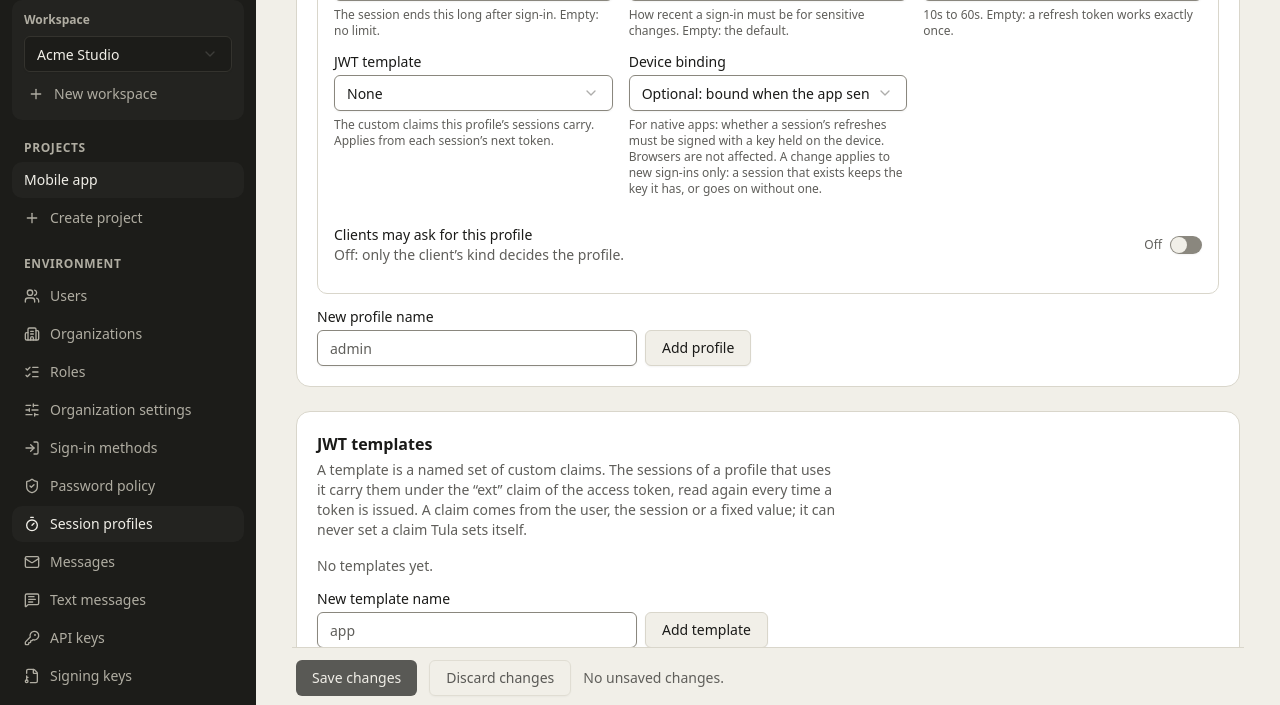
Scenario: device binding on the session profiles screen › a new profile asks what the mobile profile asks (optional), not the web profile’s nothing
(page scrolled)
Type "kiosk" into the field labelled "New profile name" at coordinates (477, 348), box x1=317 y1=330 x2=637 y2=366
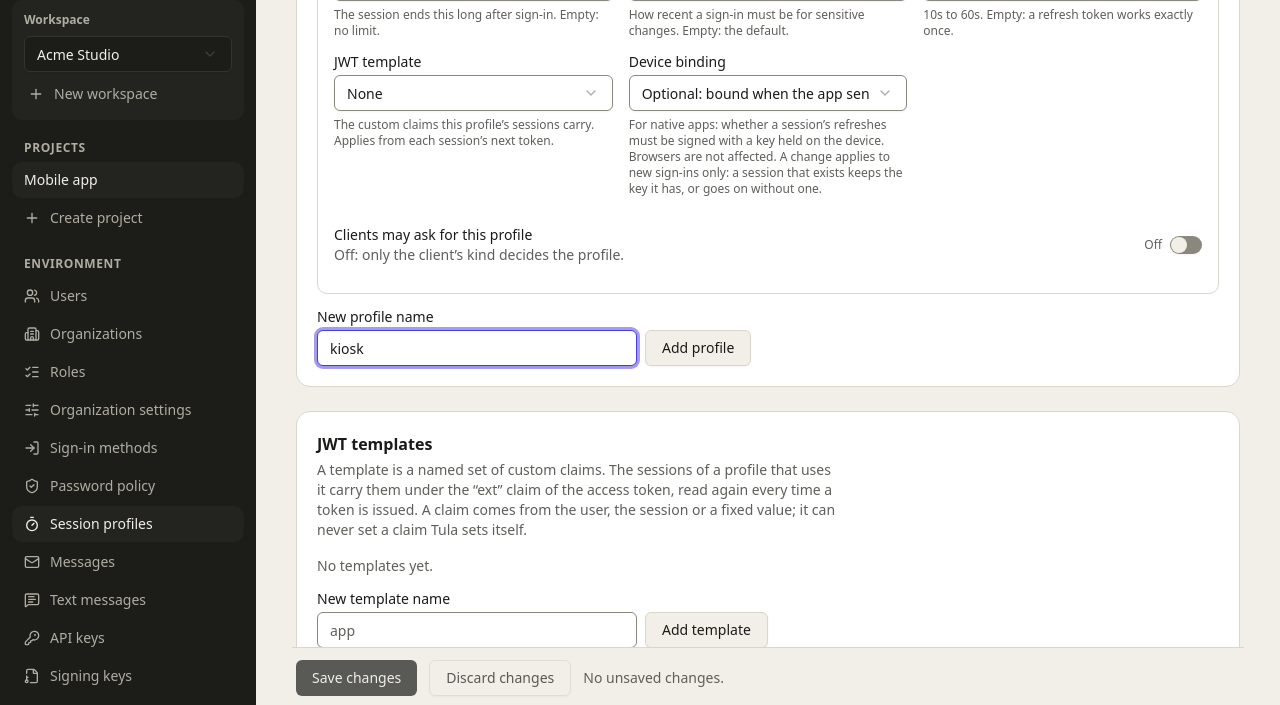
Click the button "Add profile" at coordinates (698, 348), box x1=645 y1=330 x2=751 y2=366
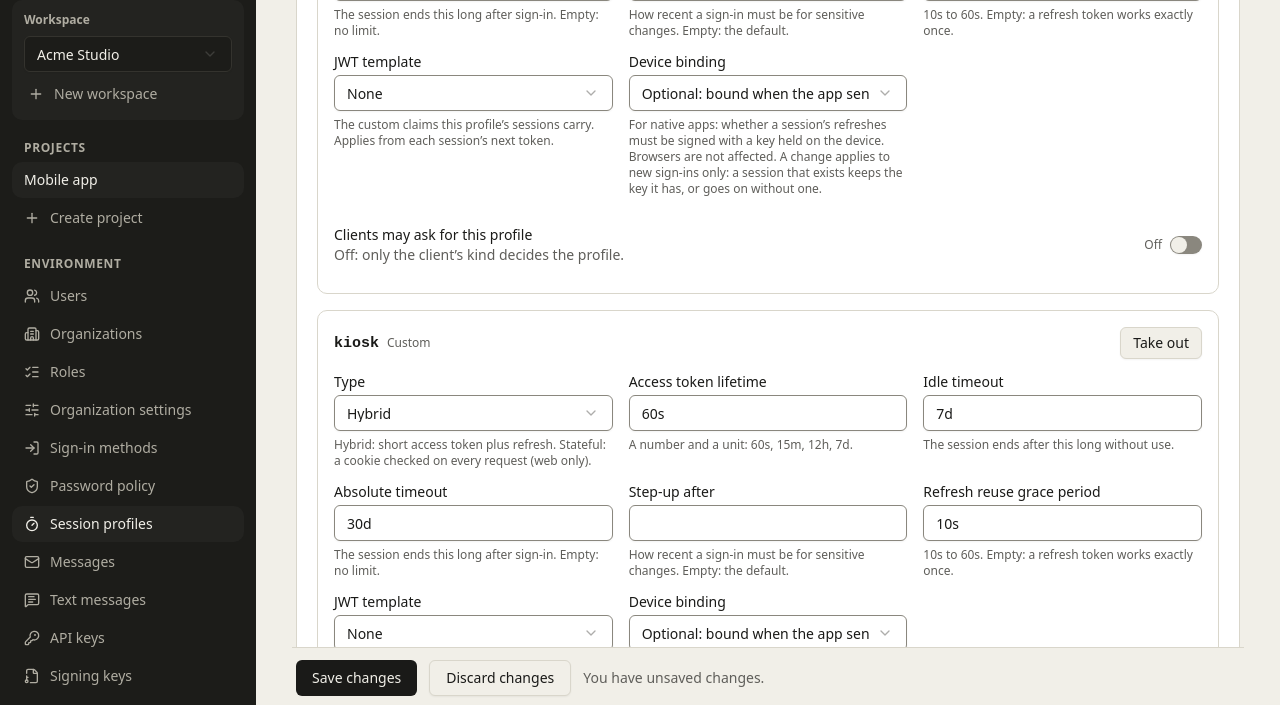
Now the dropdown labelled "Device binding" below "kiosk" shows "Optional: bound when the app sends a key", box x1=629 y1=615 x2=907 y2=651
Click the button "Save changes" at coordinates (357, 678), box x1=296 y1=660 x2=417 y2=696
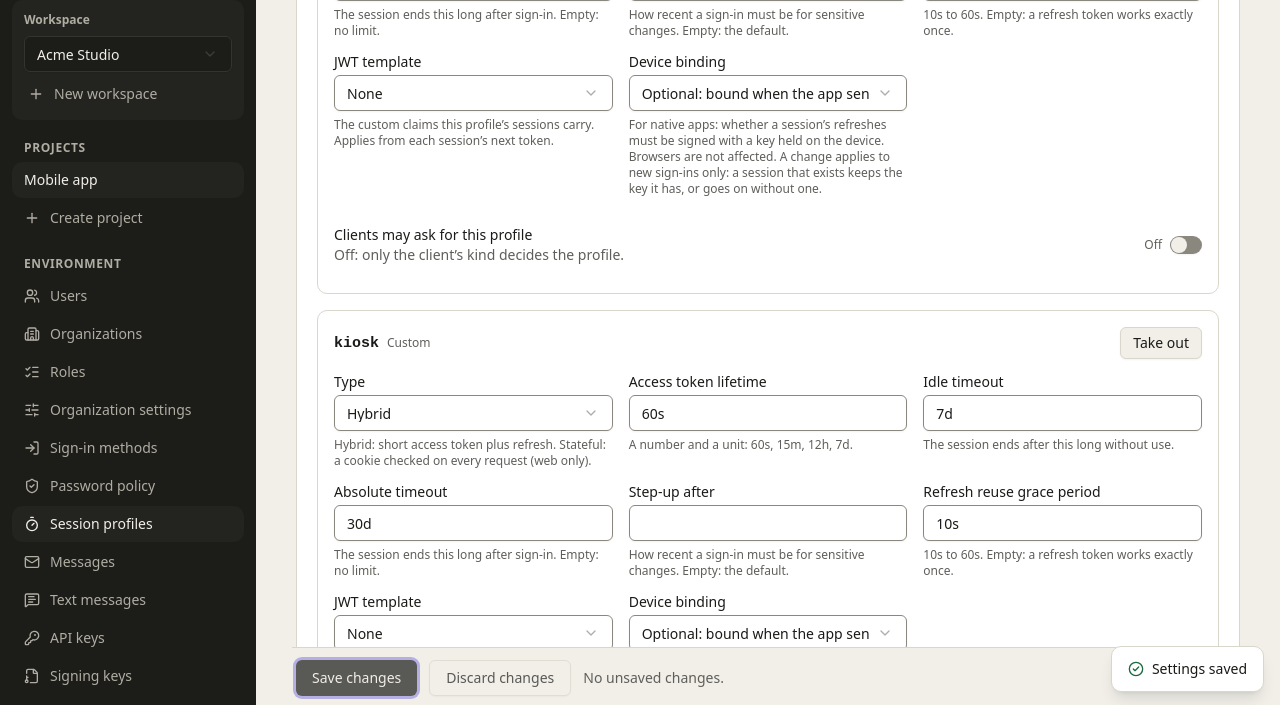
Now the list item "Settings saved" is shown, box x1=1111 y1=646 x2=1264 y2=692
